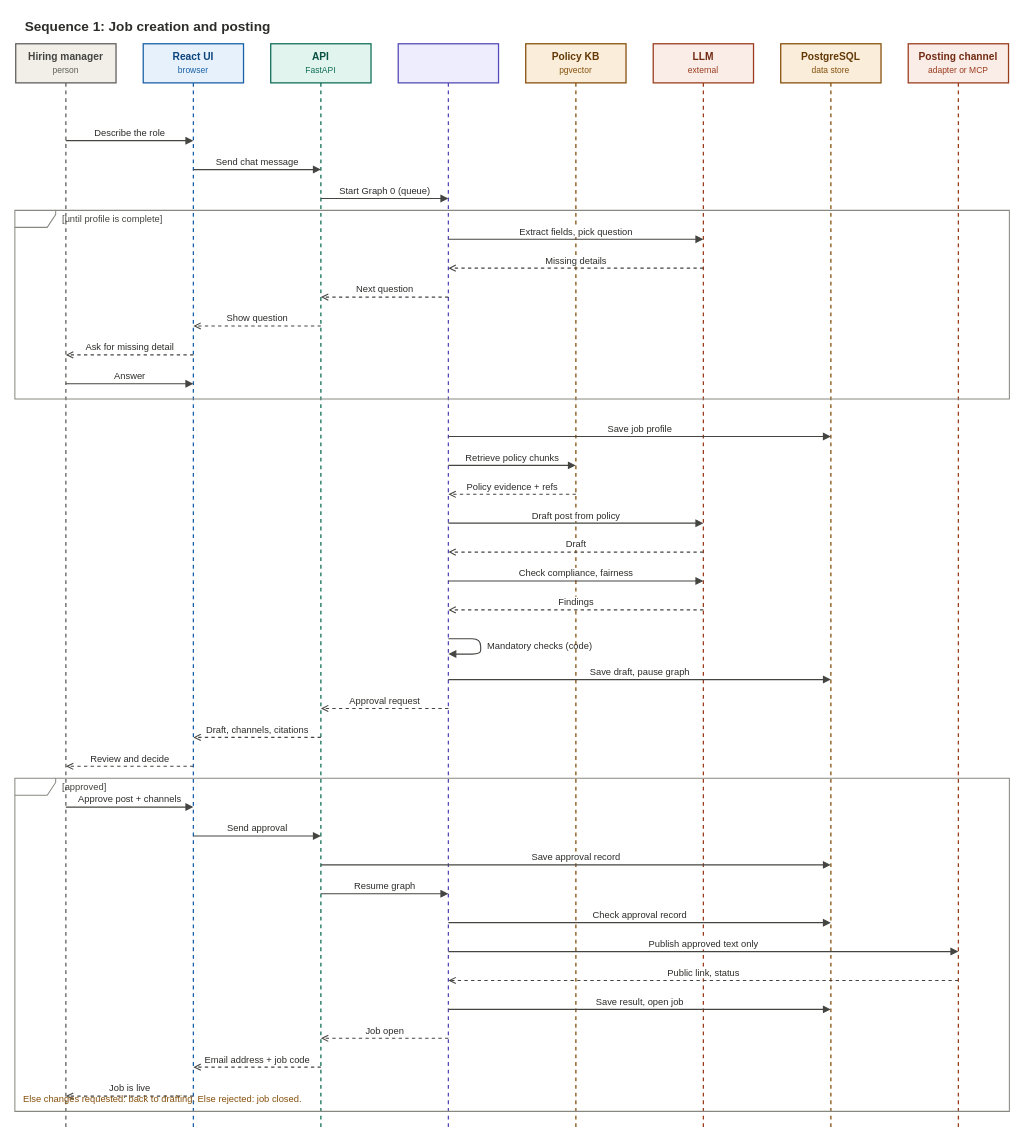
Some shapes in this 1025 by 1143 pixel diagram are drawn without their labels. Each missing label, with the box of its shape:
alt: (14, 777, 1009, 1111)
loop: (14, 209, 1009, 399)
Worker LangGraph, Graph 0: (397, 43, 499, 1129)
